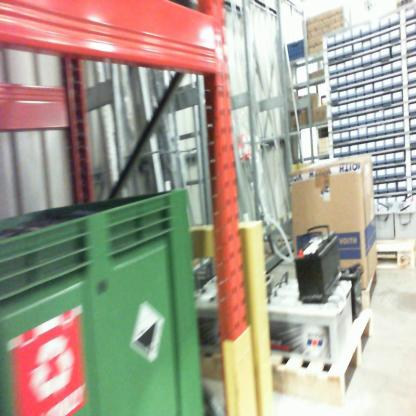pallet: (193, 312, 380, 401), (336, 266, 388, 319), (360, 239, 413, 263)
